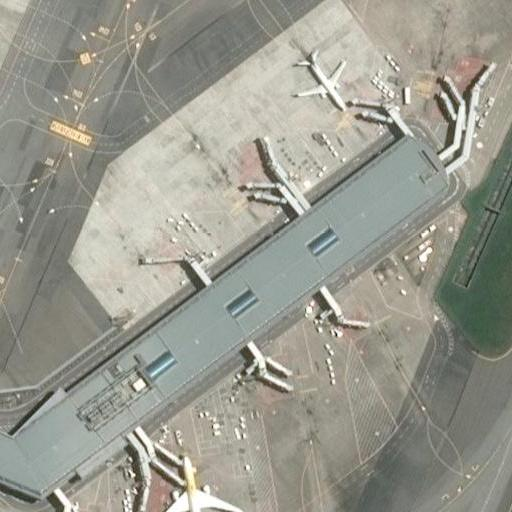Aircraft: (158, 452, 243, 512), (292, 46, 352, 114)
